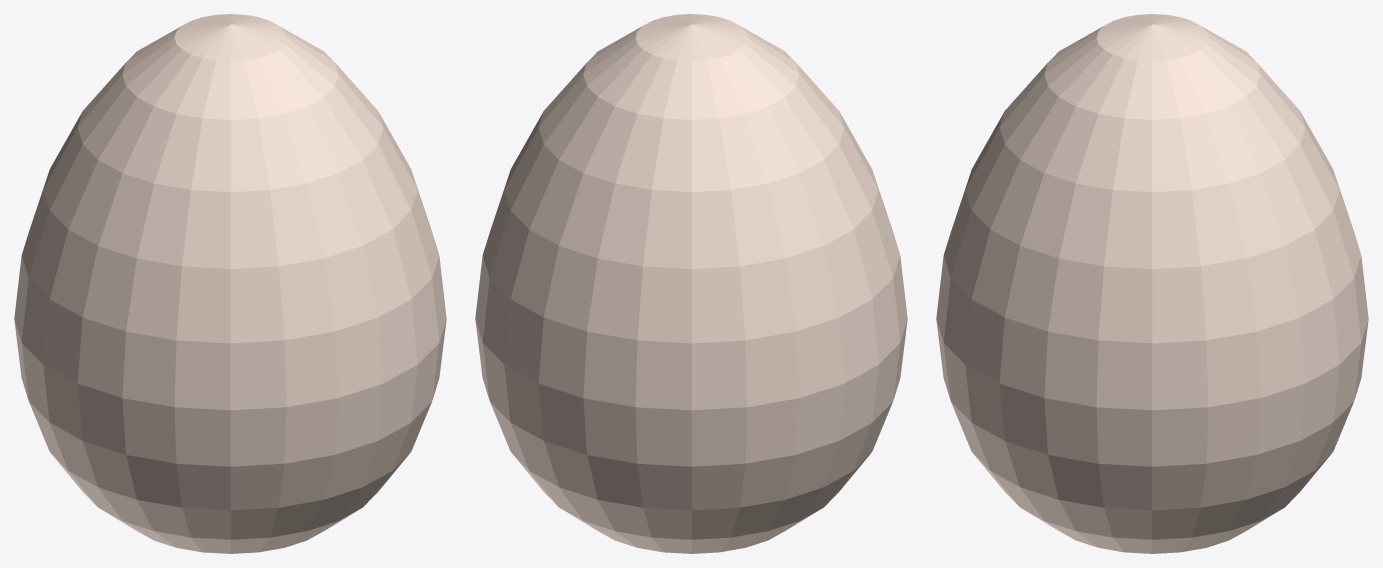
Rendered from Egg.glb.
The picture shows the model from 3 angles, left to right: view 1: azimuth 30°, elevation 25°; view 2: azimuth 150°, elevation 25°; view 3: azimuth 270°, elevation 25°; orthographic projection.
Visible parts, largest first — view 1: Uncracked_Egg; view 2: Uncracked_Egg; view 3: Uncracked_Egg.
Boxes of the visible parts, x1,y1,x2,y2 form: Uncracked_Egg: (14,14,446,553); Uncracked_Egg: (475,14,907,553); Uncracked_Egg: (936,14,1368,553).
Bounding box in the file's own units: 2.2 × 2.87 × 2.2.
Materials: 1 (1 with a texture image).
